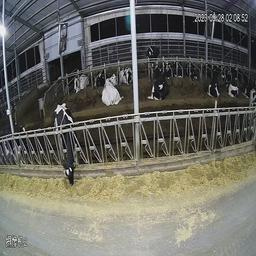cow: (47, 93, 83, 190), (144, 62, 171, 105), (4, 112, 29, 158), (103, 65, 123, 113), (206, 65, 223, 103), (70, 66, 90, 94), (227, 64, 239, 104), (119, 56, 132, 86), (145, 42, 160, 68), (171, 54, 185, 81), (187, 53, 198, 85), (93, 66, 104, 88)
